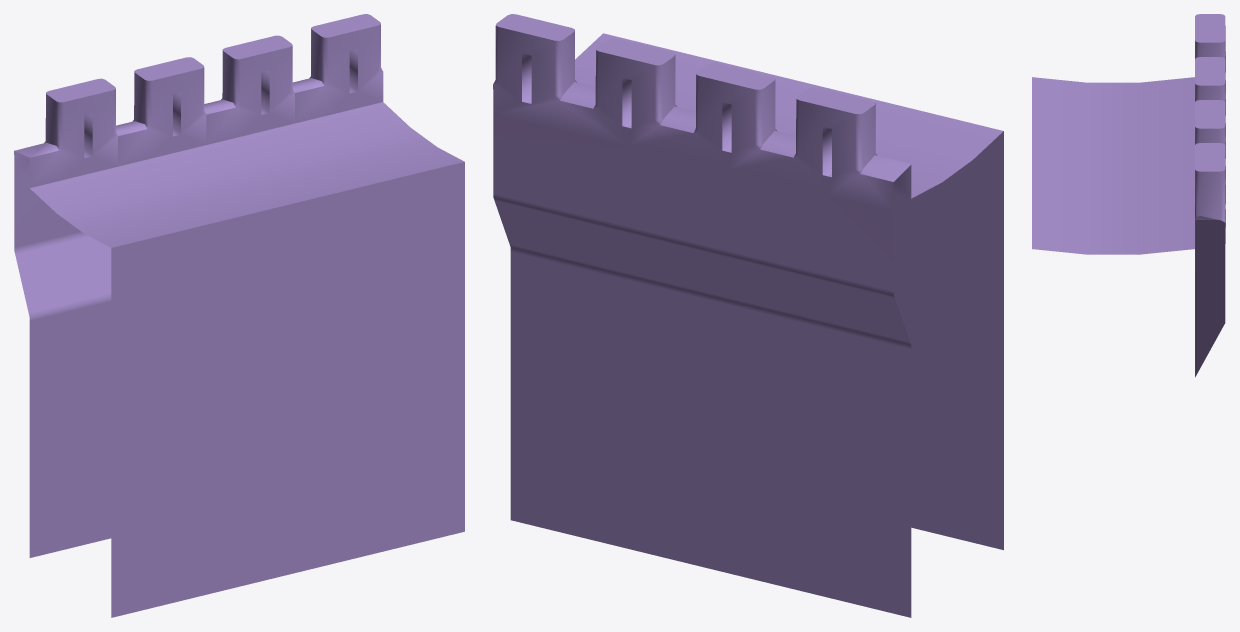
The model's file is wall_outer_10m.fbx.
3 views of the same model, side by side, from view 1: azimuth 30°, elevation 25°; view 2: azimuth 150°, elevation 25°; view 3: azimuth 270°, elevation 25° (orthographic). The views are drawn at different scales.
Parts seen in each view (by area): view 1: Cube.091; view 2: Cube.091; view 3: Cube.091.
Boxes of the visible parts, bbox=[...] form: Cube.091: bbox=[14, 14, 464, 617]; Cube.091: bbox=[493, 14, 1003, 617]; Cube.091: bbox=[1032, 14, 1225, 377].
Size of the model in its own units: 10 by 12.1 by 4.76.
